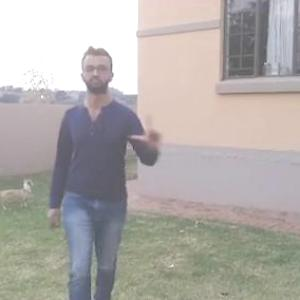land_hand: (129, 107, 170, 155)
